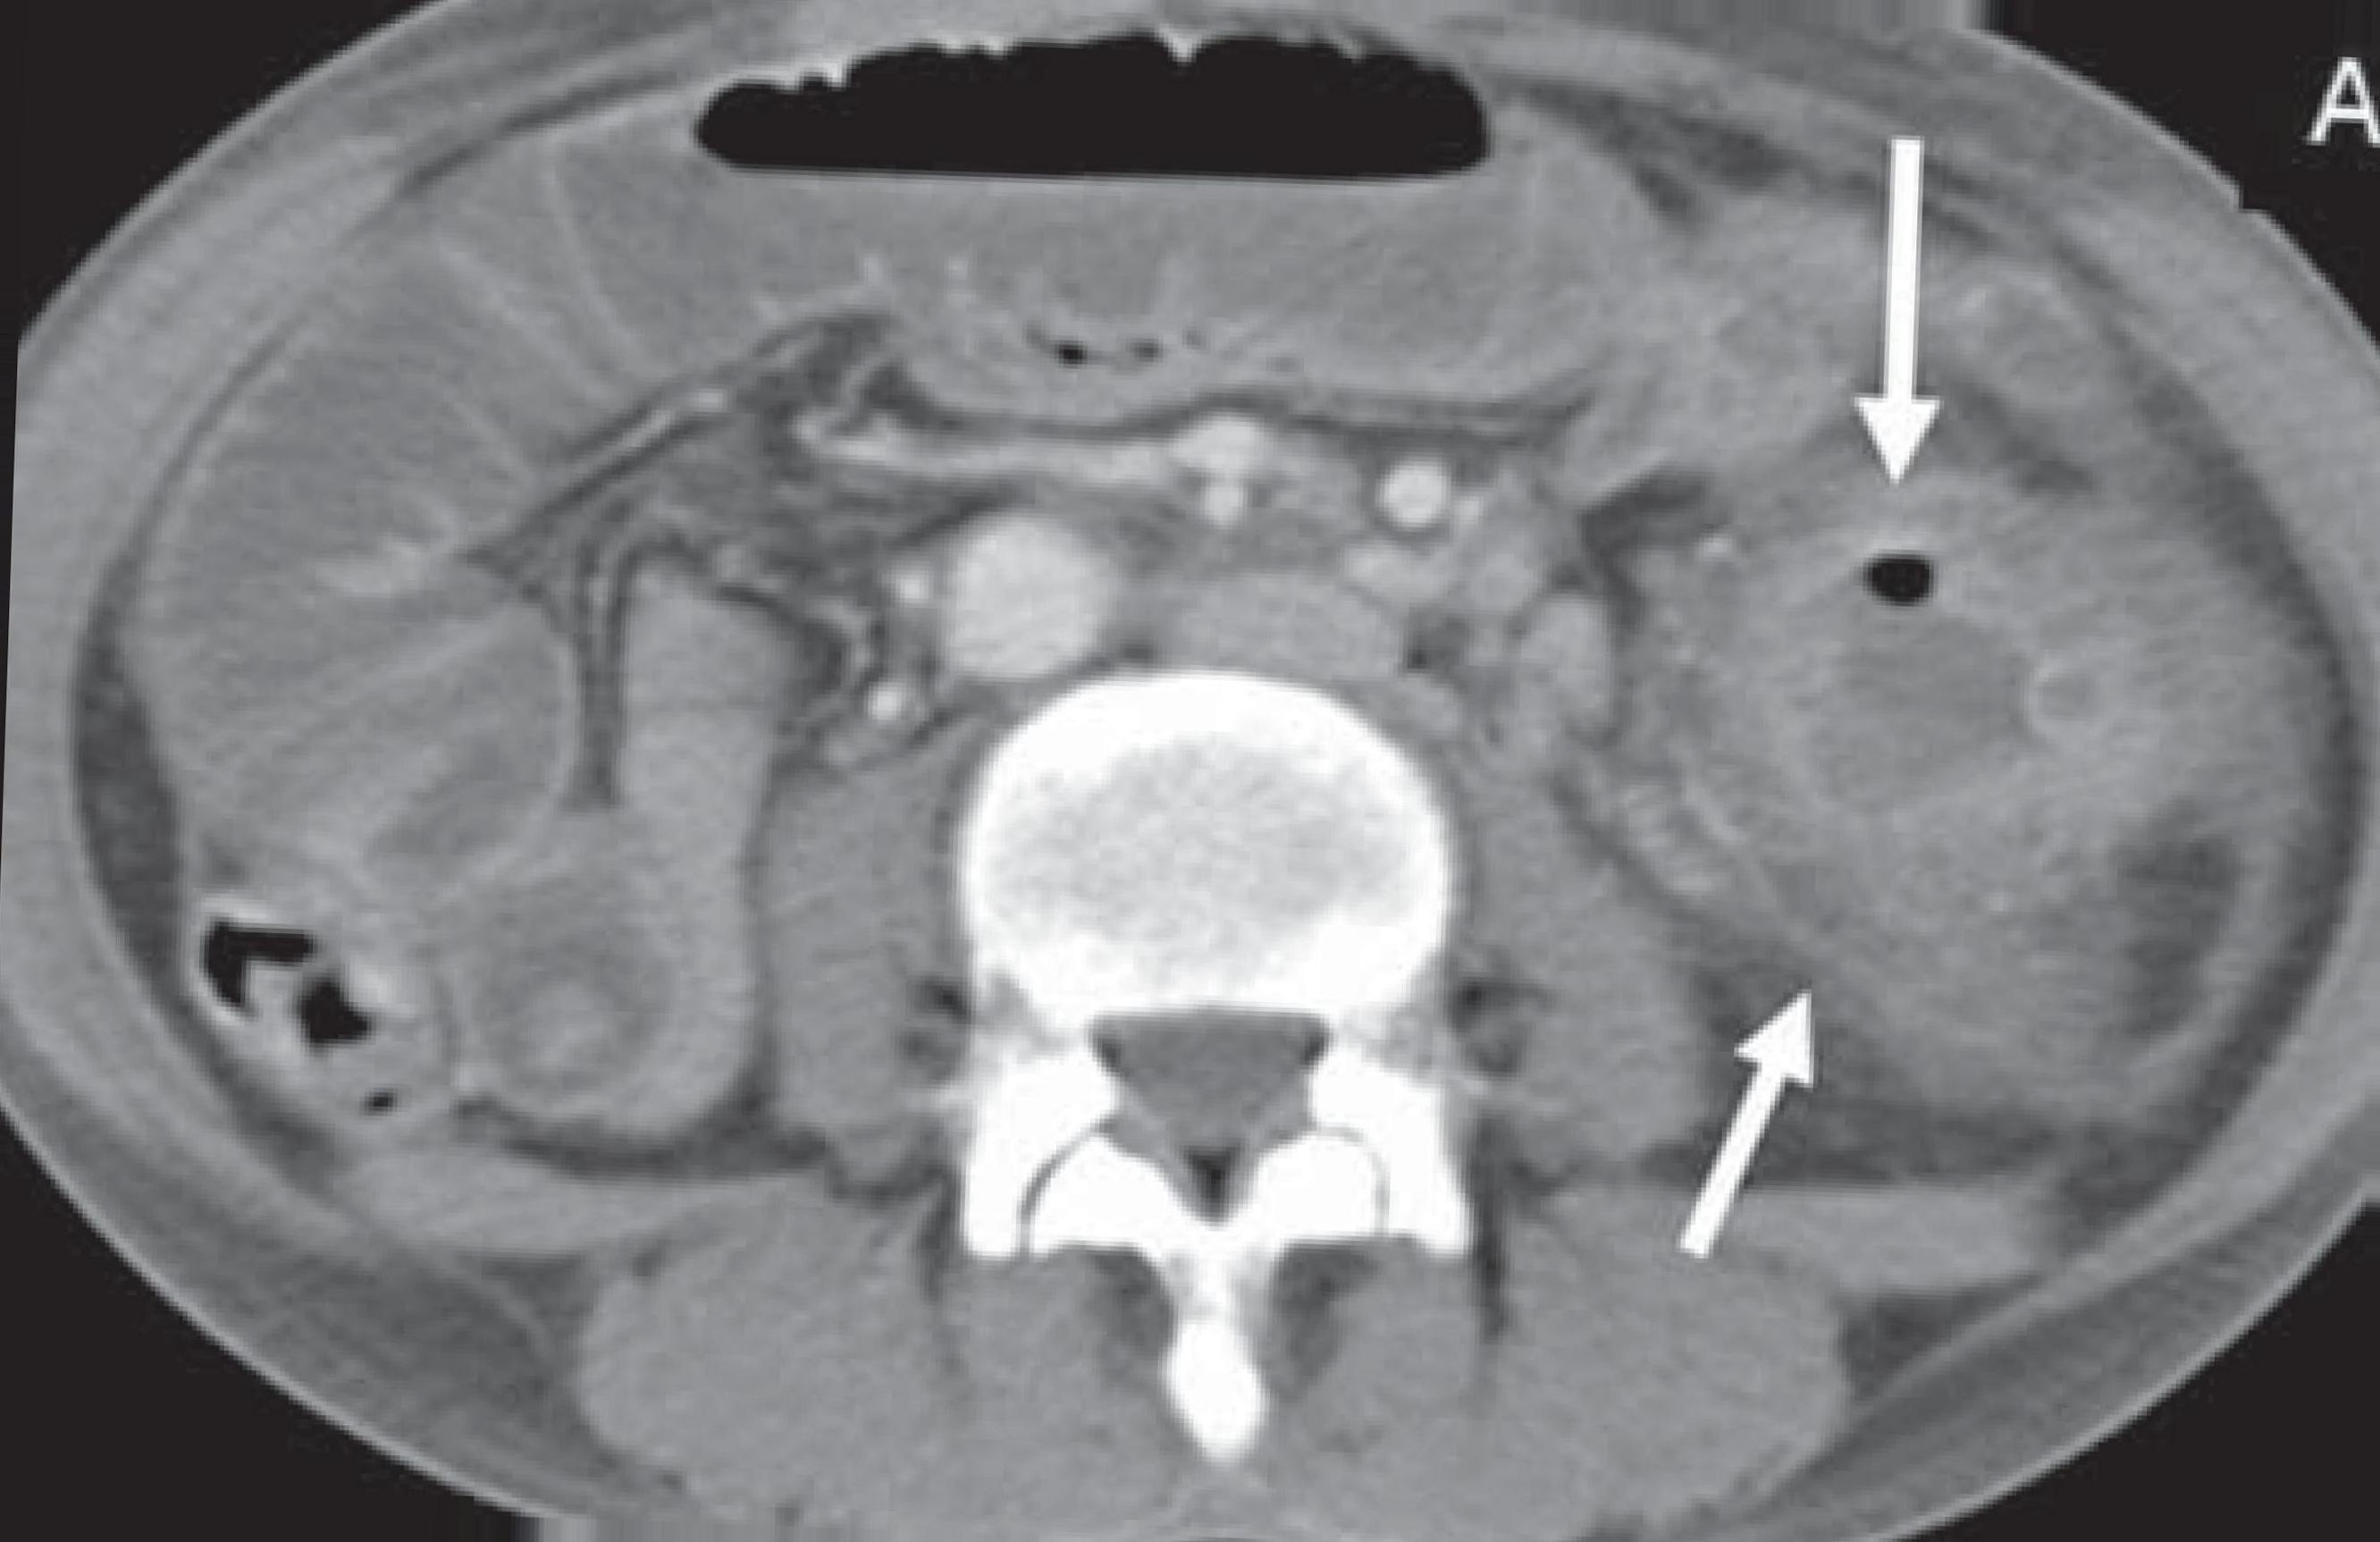anomaly: (1766, 593, 2104, 848)
